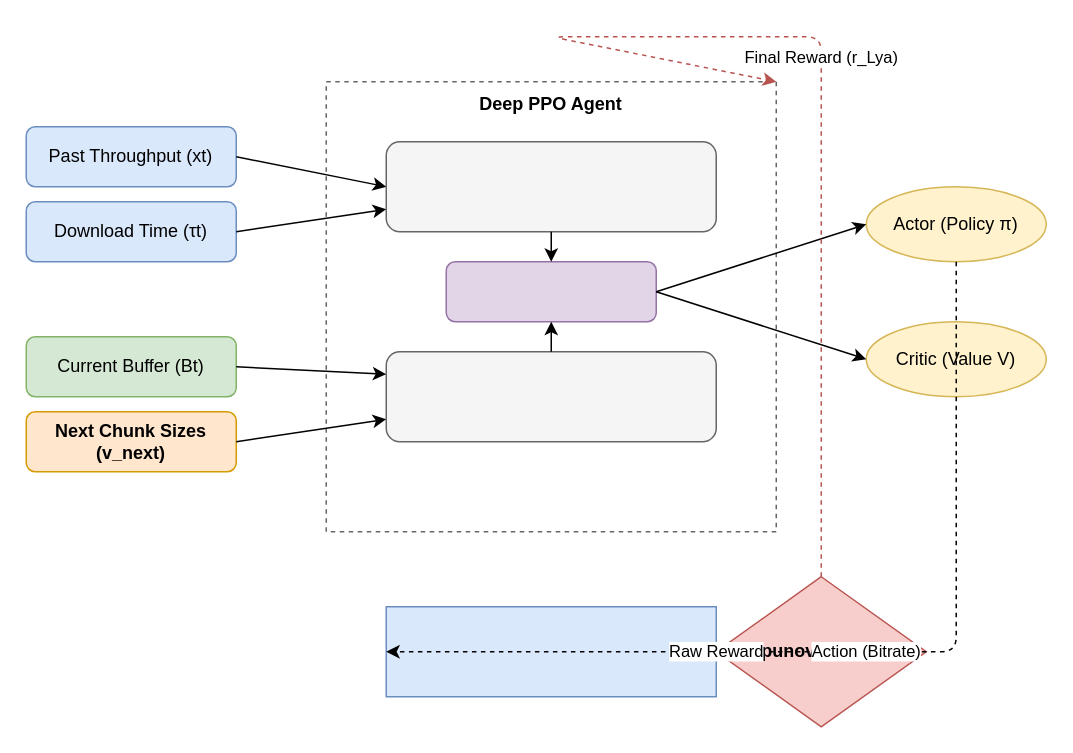
This 1073x753 diagram has some shape labels left out. The centre of each missing label's shape, as x and y in pixels:
"1D-CNN Layers" belongs at pixel 550 186.
"Environment (Video Player)" belongs at pixel 550 651.
"Fully Connected (MLP)" belongs at pixel 550 396.
"Shared Hidden Layers" belongs at pixel 550 291.
